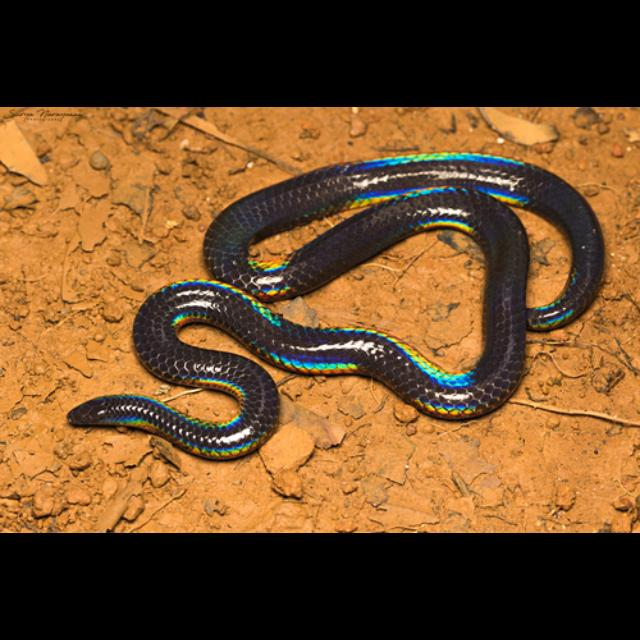snake: (65, 143, 610, 464)
